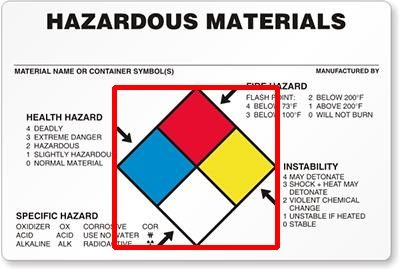nfpa: (114, 87, 277, 247)
